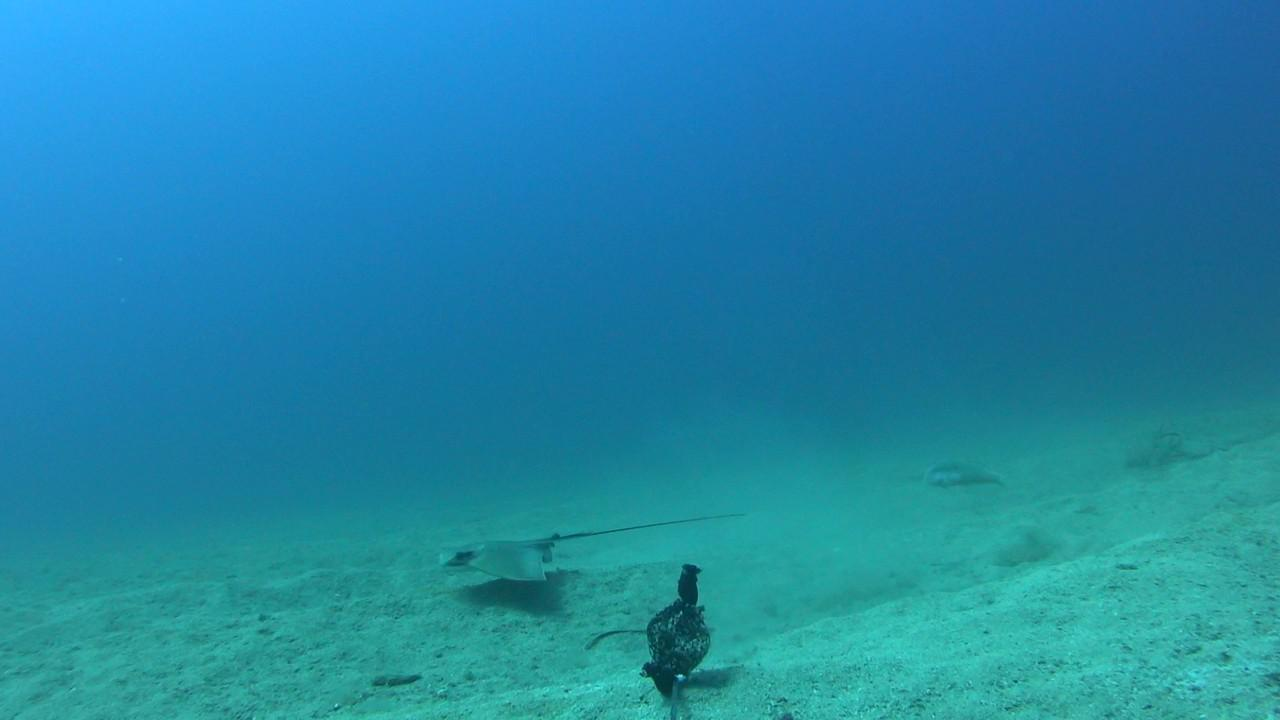myliobatis: (398, 508, 785, 592)
raor: (923, 455, 1012, 491)
